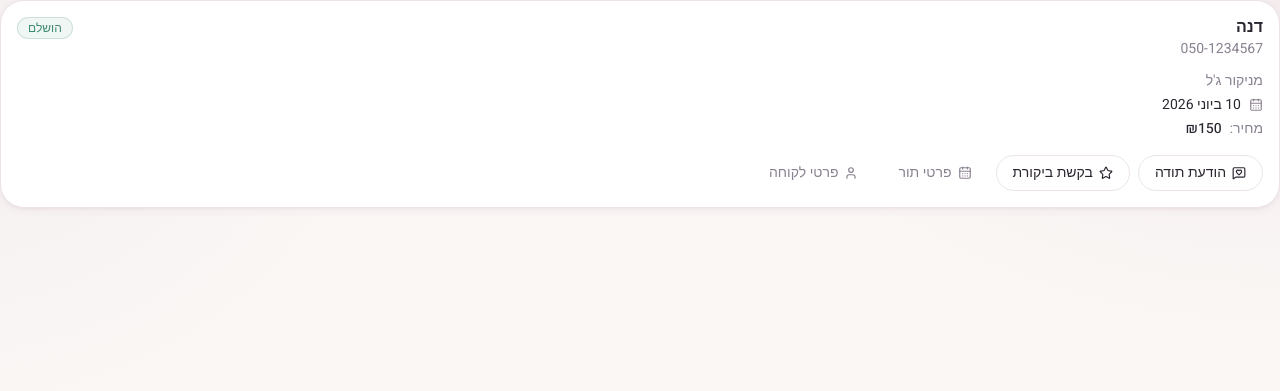
ReputationBookingCard › opens the review message preview and toggles it closed
This screenshot has width=1280, height=391.
Click the button "בקשת ביקורת".
click(1063, 173)  # box [996,155,1130,191]
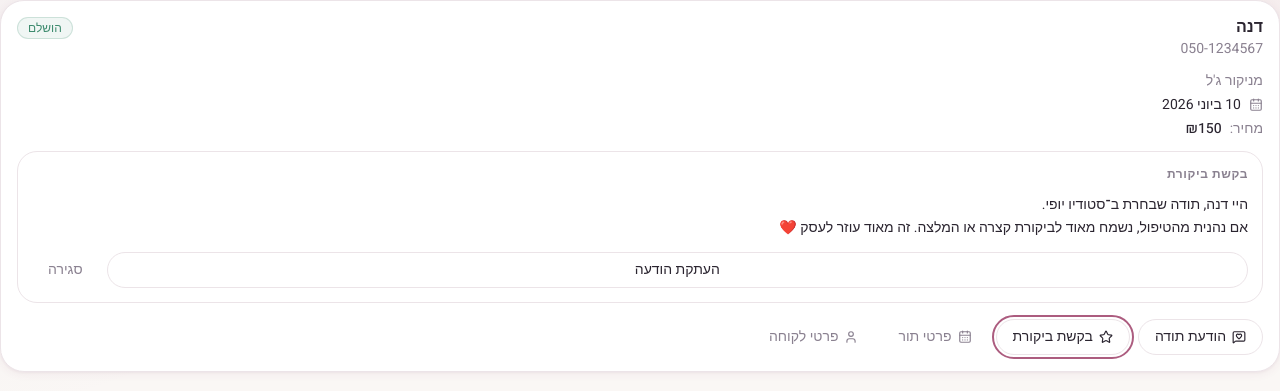
Result: the text "נשמח מאוד לביקורת קצרה" is shown at [779,194,1248,238]
# pressing review again toggles the panel closed
Click the button "בקשת ביקורת".
click(1063, 336)  # box [996,318,1130,354]
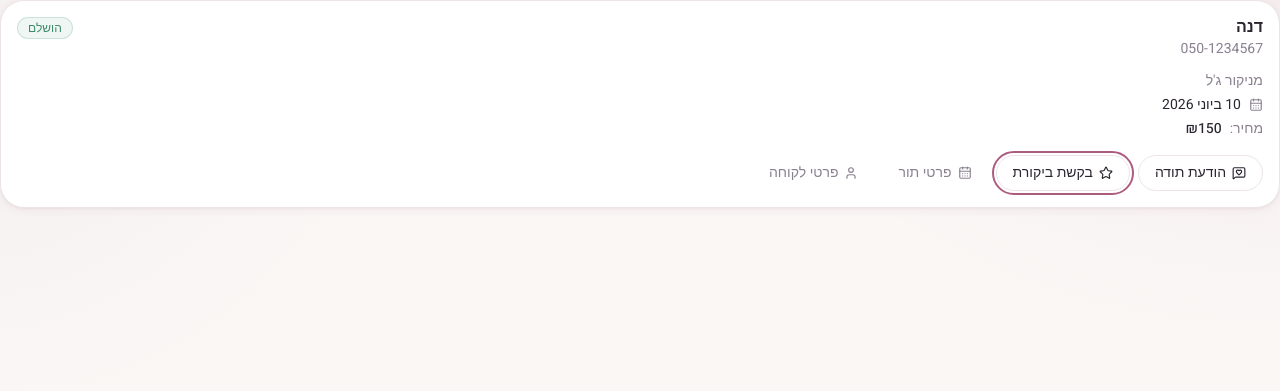
Result: the text "נשמח מאוד לביקורת קצרה" is gone
